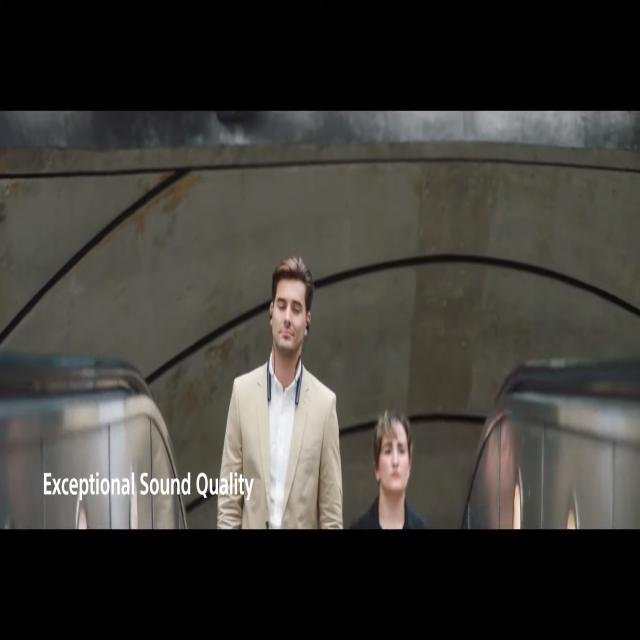Neckband: (267, 312, 310, 406)
